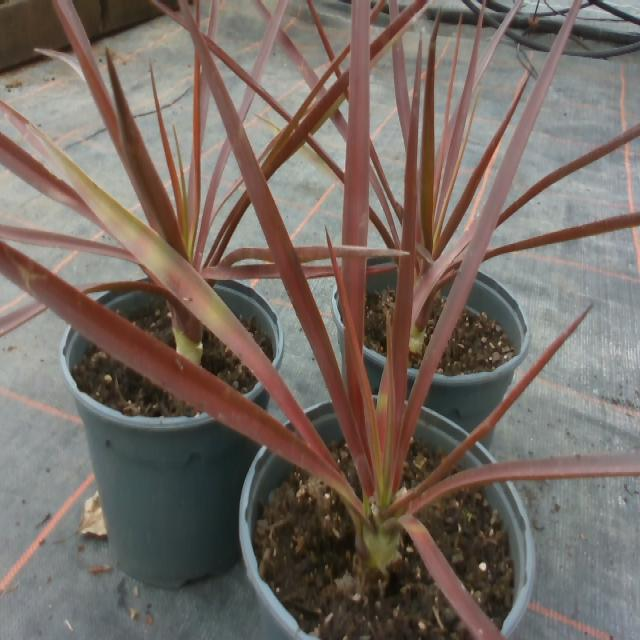Yucca-aloifolia: (9, 108, 318, 445), (0, 243, 354, 504), (181, 3, 371, 487), (400, 0, 580, 464), (108, 52, 185, 256), (383, 43, 420, 461), (496, 124, 639, 227), (436, 88, 523, 251), (53, 0, 132, 179), (400, 515, 504, 639), (409, 453, 639, 509), (263, 69, 354, 177), (0, 133, 97, 223), (484, 212, 639, 259), (206, 36, 291, 121), (342, 0, 370, 245), (413, 216, 478, 320), (443, 23, 480, 196), (151, 65, 185, 241), (0, 224, 137, 263), (289, 45, 349, 129), (420, 17, 439, 249), (474, 0, 523, 88), (366, 0, 426, 69), (251, 0, 288, 81), (203, 140, 230, 232), (277, 29, 319, 88), (370, 140, 400, 216), (342, 257, 365, 355), (217, 187, 250, 252), (303, 135, 343, 180), (392, 39, 408, 149), (79, 281, 176, 299), (307, 0, 335, 61), (0, 301, 46, 336), (35, 48, 83, 77), (202, 263, 279, 279), (213, 217, 240, 260), (217, 248, 274, 267), (369, 167, 389, 212), (347, 364, 362, 417), (369, 207, 391, 243), (240, 87, 254, 119), (207, 0, 219, 37), (297, 247, 328, 261), (252, 0, 271, 21), (199, 97, 208, 141), (331, 115, 345, 140), (303, 265, 331, 277), (196, 233, 205, 260), (389, 0, 399, 20), (336, 245, 353, 256), (382, 249, 399, 256), (190, 176, 196, 195), (360, 249, 373, 256), (335, 65, 341, 79)
